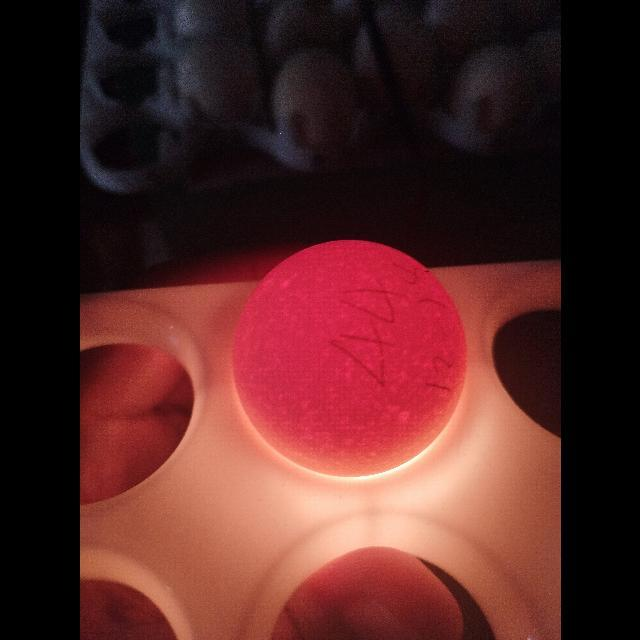Infertile: (228, 236, 472, 484)
